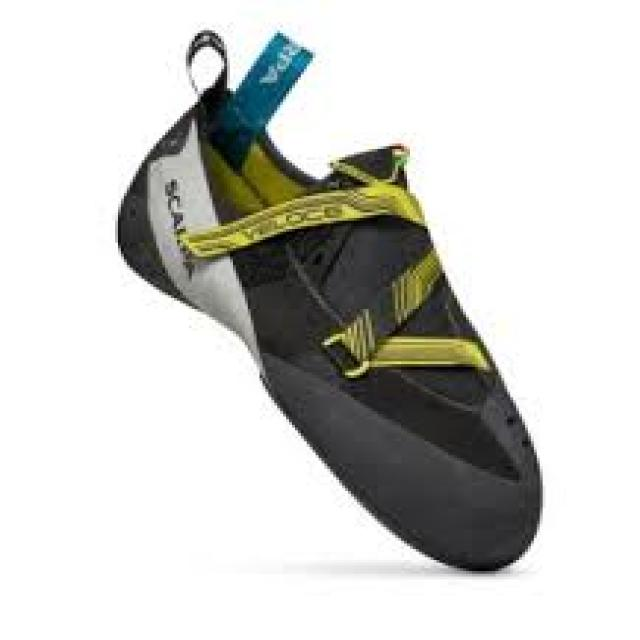climbing-shoes: (118, 27, 542, 574)
